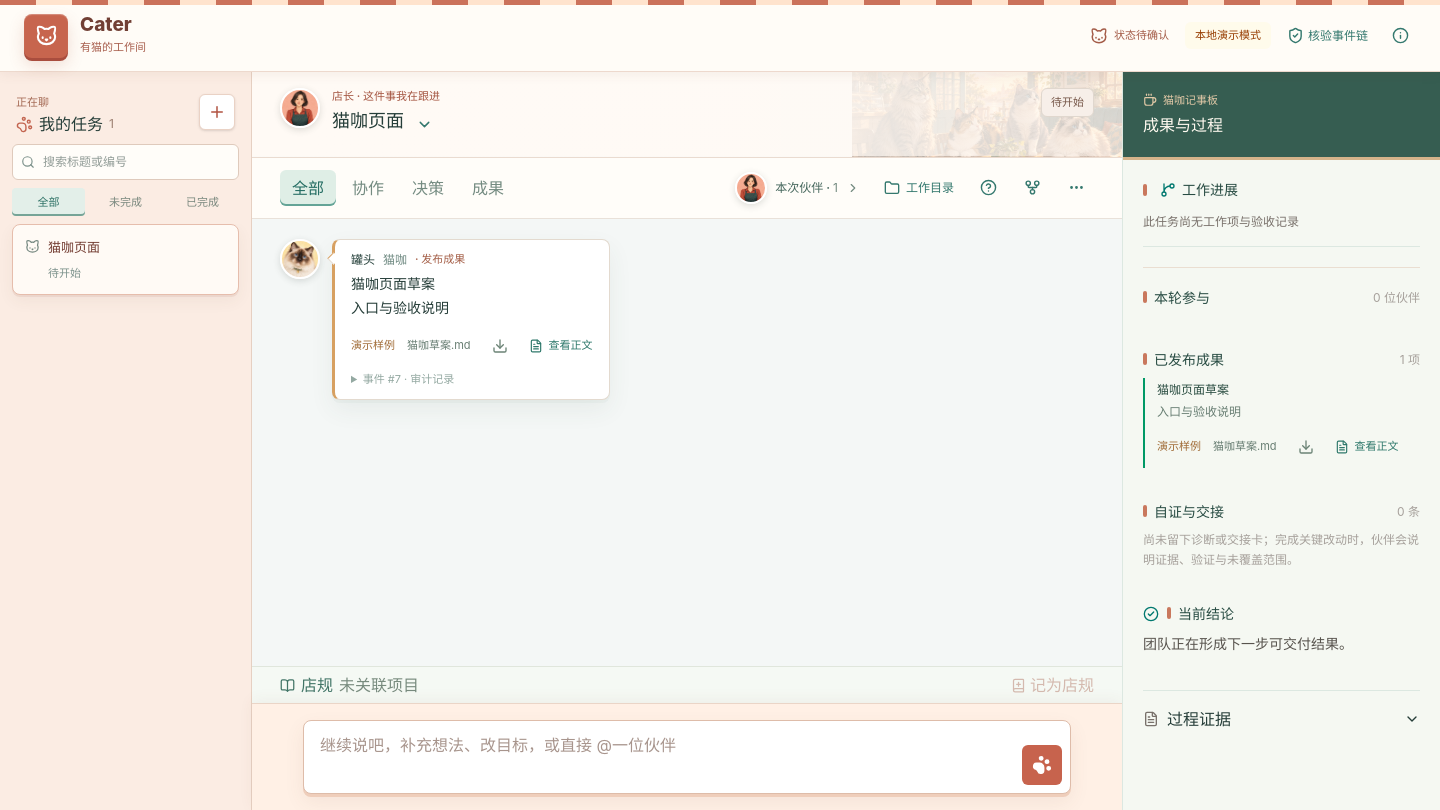
Test case: 聊天成果和成果板都能打开同一份事件正文
Click the button "查看正文" below "罐头": [560, 346] box [528,337,592,354]
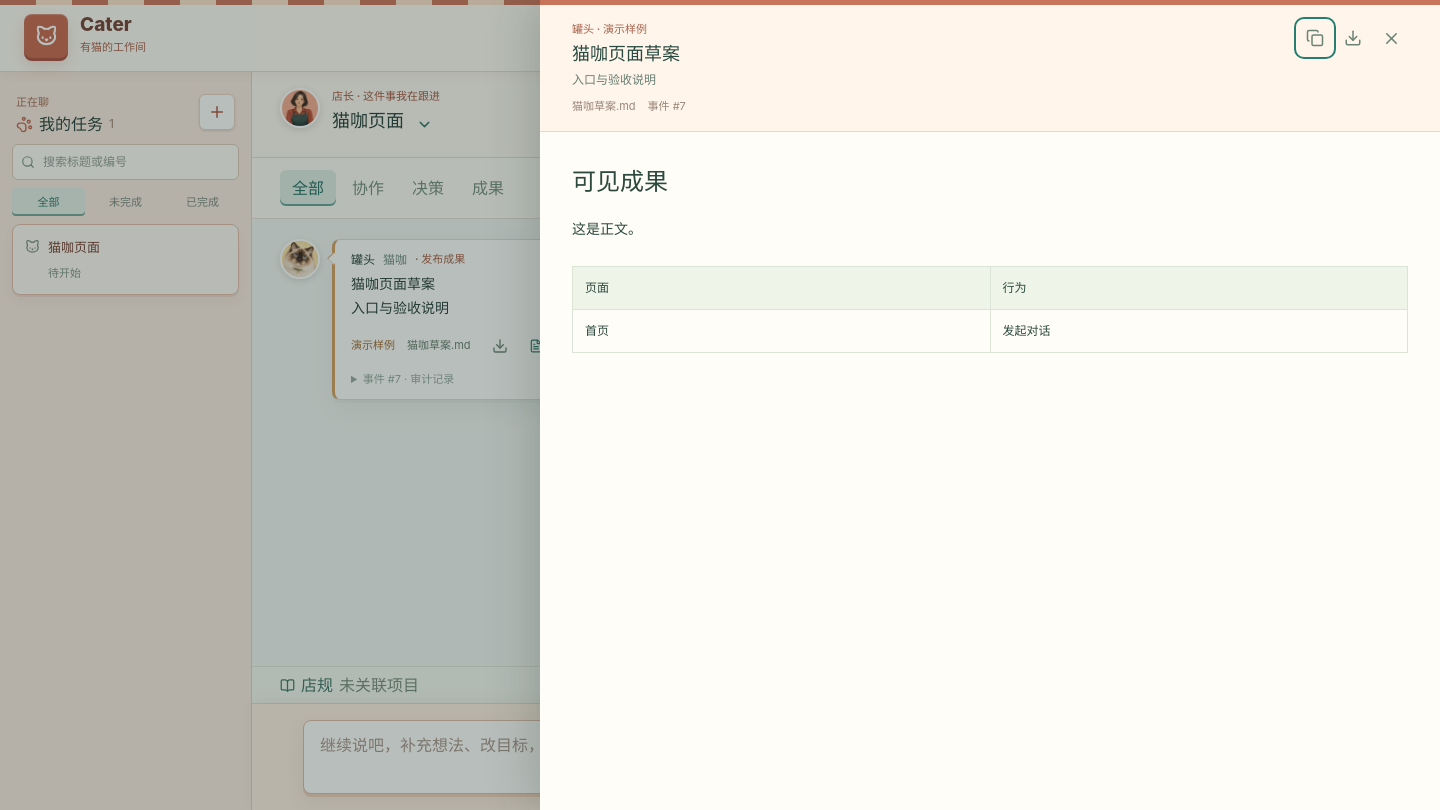
expect the text "这是正文。" is shown: met, box [572,220,642,237]
Click the button named "关闭成果正文": [1391, 38] box [1374,21,1408,55]
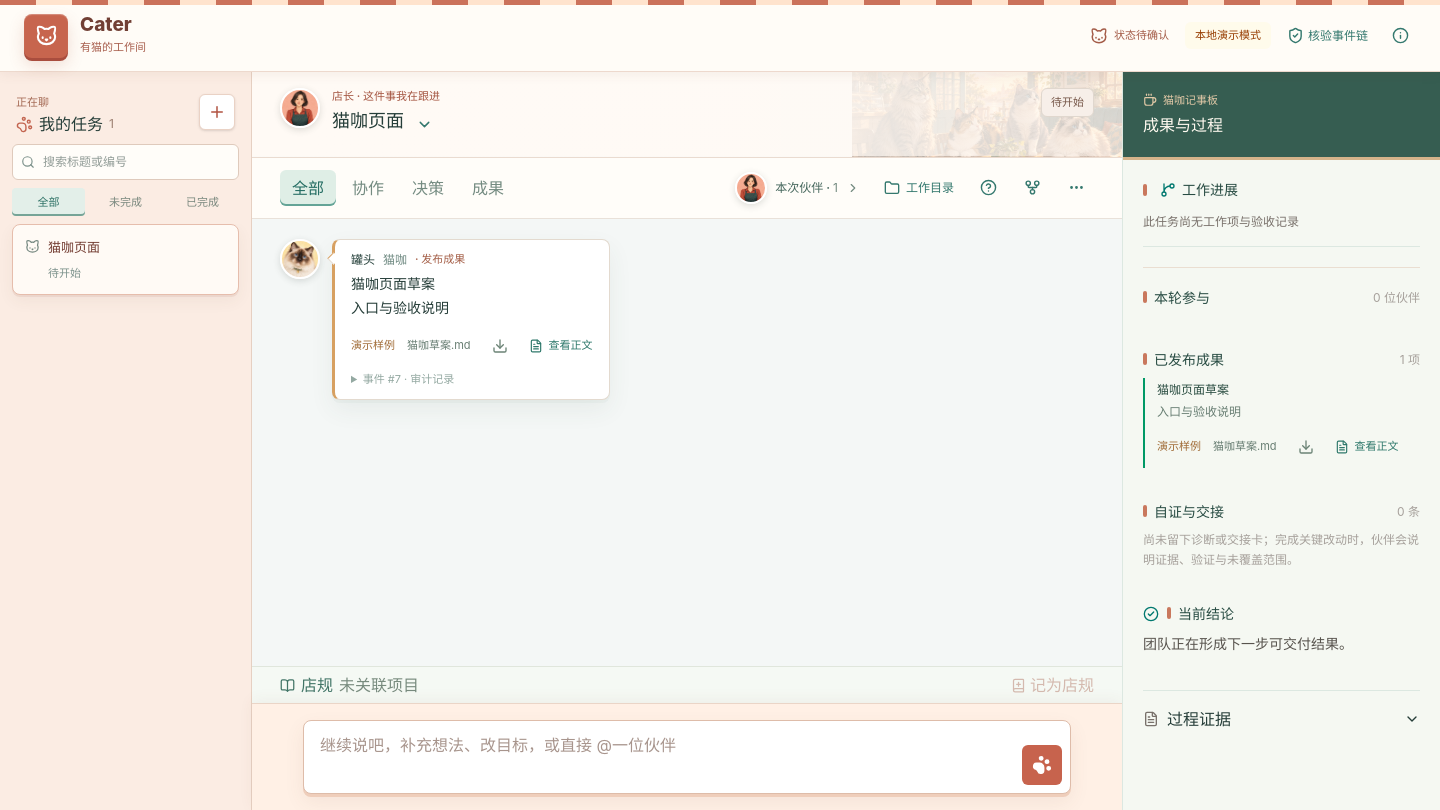
Click the button "查看正文" below "已发布成果": [1366, 447] box [1334,438,1398,455]
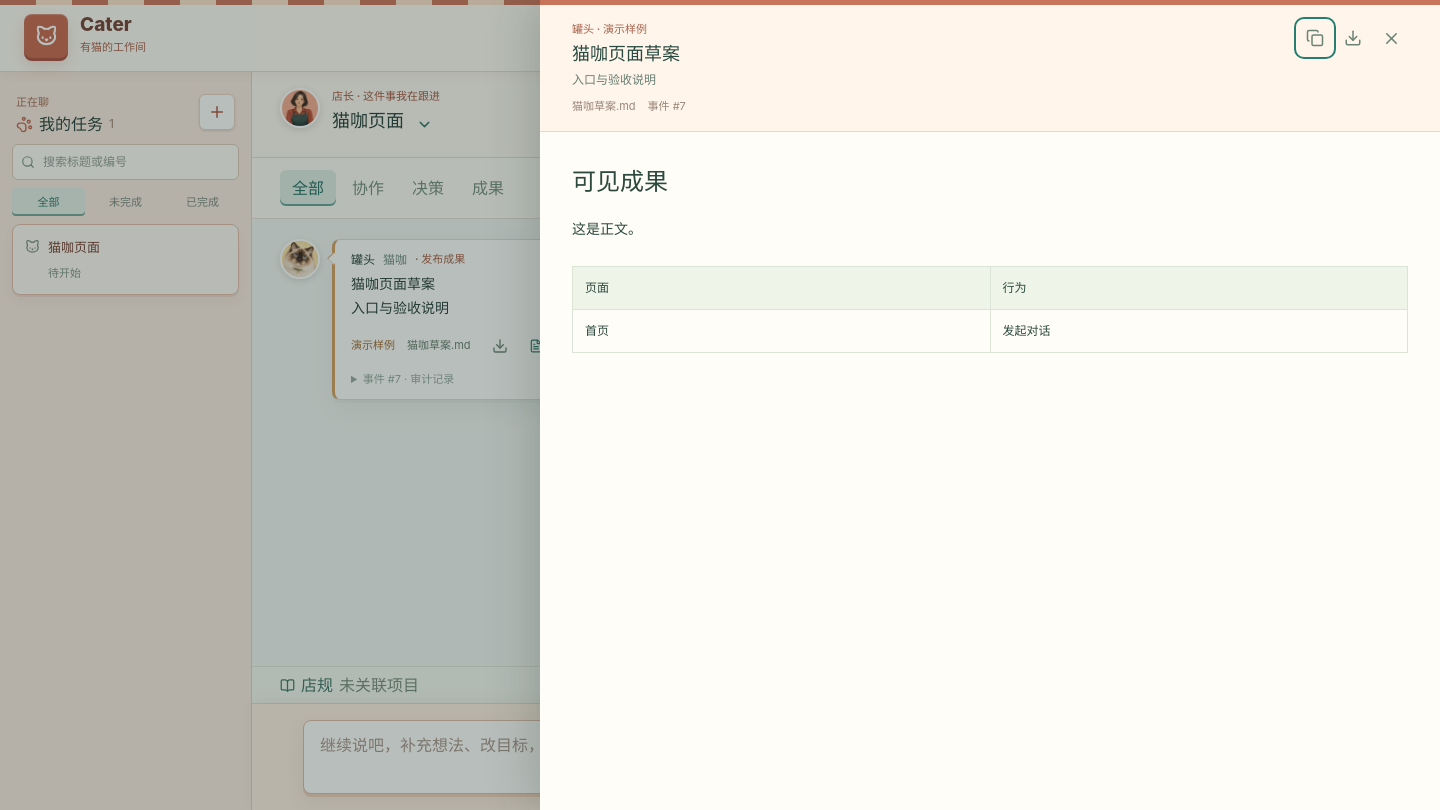
expect the text "这是正文。" is shown: met, box [572,220,642,237]
